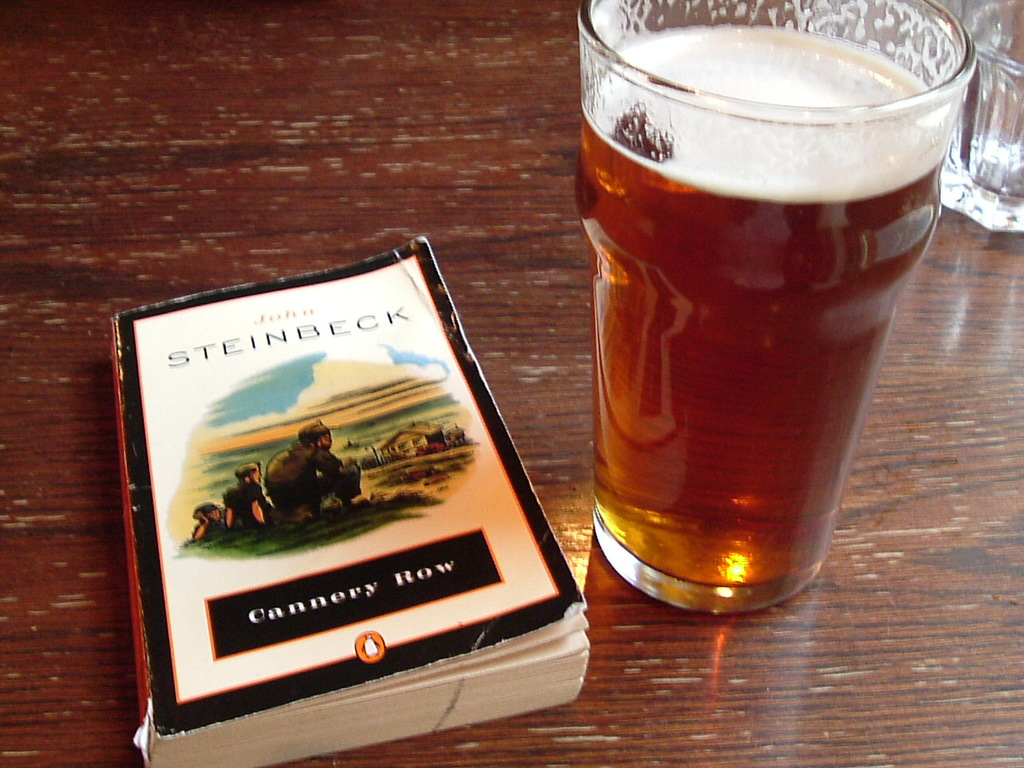Beer: (576, 0, 981, 637)
